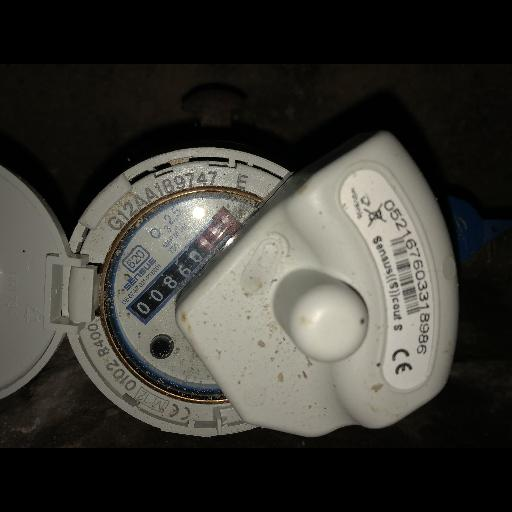0: (142, 283, 169, 310), (130, 295, 156, 321), (182, 241, 208, 267)
3: (204, 220, 229, 245), (194, 231, 208, 255)
5: (212, 206, 243, 237)
6: (169, 254, 196, 281)
8: (154, 268, 183, 297)
border_water_meter_number: (126, 206, 243, 327)
